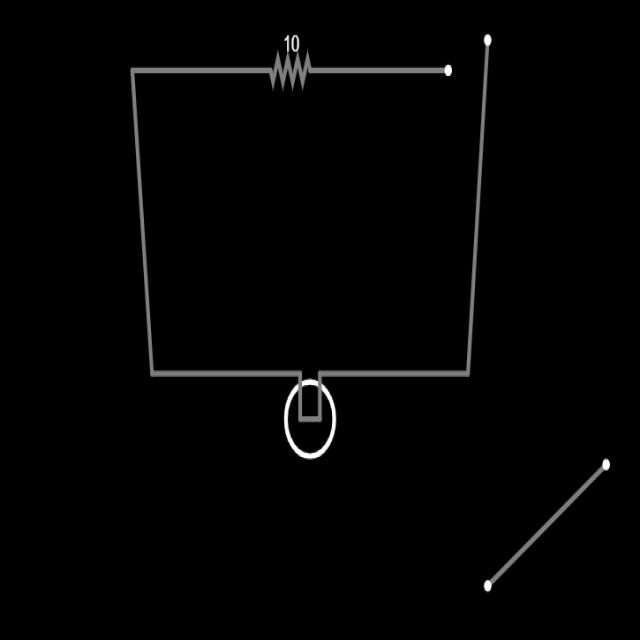Light Bulb: (285, 372, 336, 458)
Resistor: (270, 52, 311, 90)
Wire: (484, 461, 610, 590), (131, 66, 155, 380), (467, 39, 489, 378), (311, 64, 444, 76), (318, 369, 469, 378), (153, 370, 302, 377), (133, 67, 272, 74)
